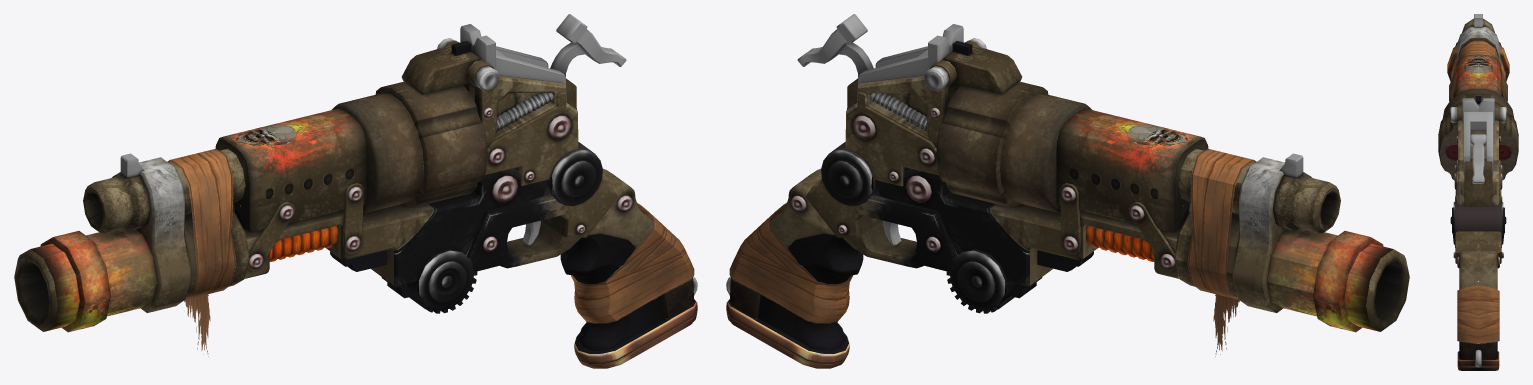
The picture shows the model from 3 angles, left to right: view 1: azimuth 30°, elevation 25°; view 2: azimuth 150°, elevation 25°; view 3: azimuth 270°, elevation 25°; orthographic projection. The views are drawn at different scales.
Parts seen in each view (by area): view 1: lozwgun_Material #47_0; view 2: lozwgun_Material #47_0; view 3: lozwgun_Material #47_0.
Part boxes in pixels (x1,y1,x2,y2): lozwgun_Material #47_0: (14,14,697,368); lozwgun_Material #47_0: (726,14,1409,368); lozwgun_Material #47_0: (1438,14,1518,370).
Size of the model in its own units: 232 by 119 by 37.91.
Materials: 1 (1 with a texture image).
